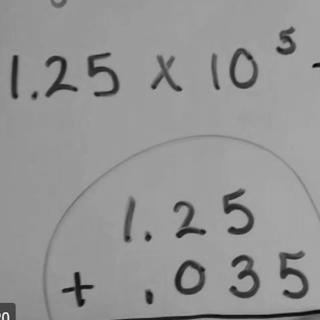.: (141, 284, 161, 304), (25, 88, 44, 104), (142, 229, 156, 243)
0: (230, 48, 260, 90), (174, 261, 206, 294)
1: (7, 53, 22, 104), (121, 195, 134, 242), (209, 51, 222, 90)
2: (43, 53, 76, 97), (174, 200, 202, 238)
3: (229, 254, 262, 302)
5: (87, 50, 121, 100), (224, 187, 256, 236), (278, 250, 309, 299), (275, 26, 296, 55)
